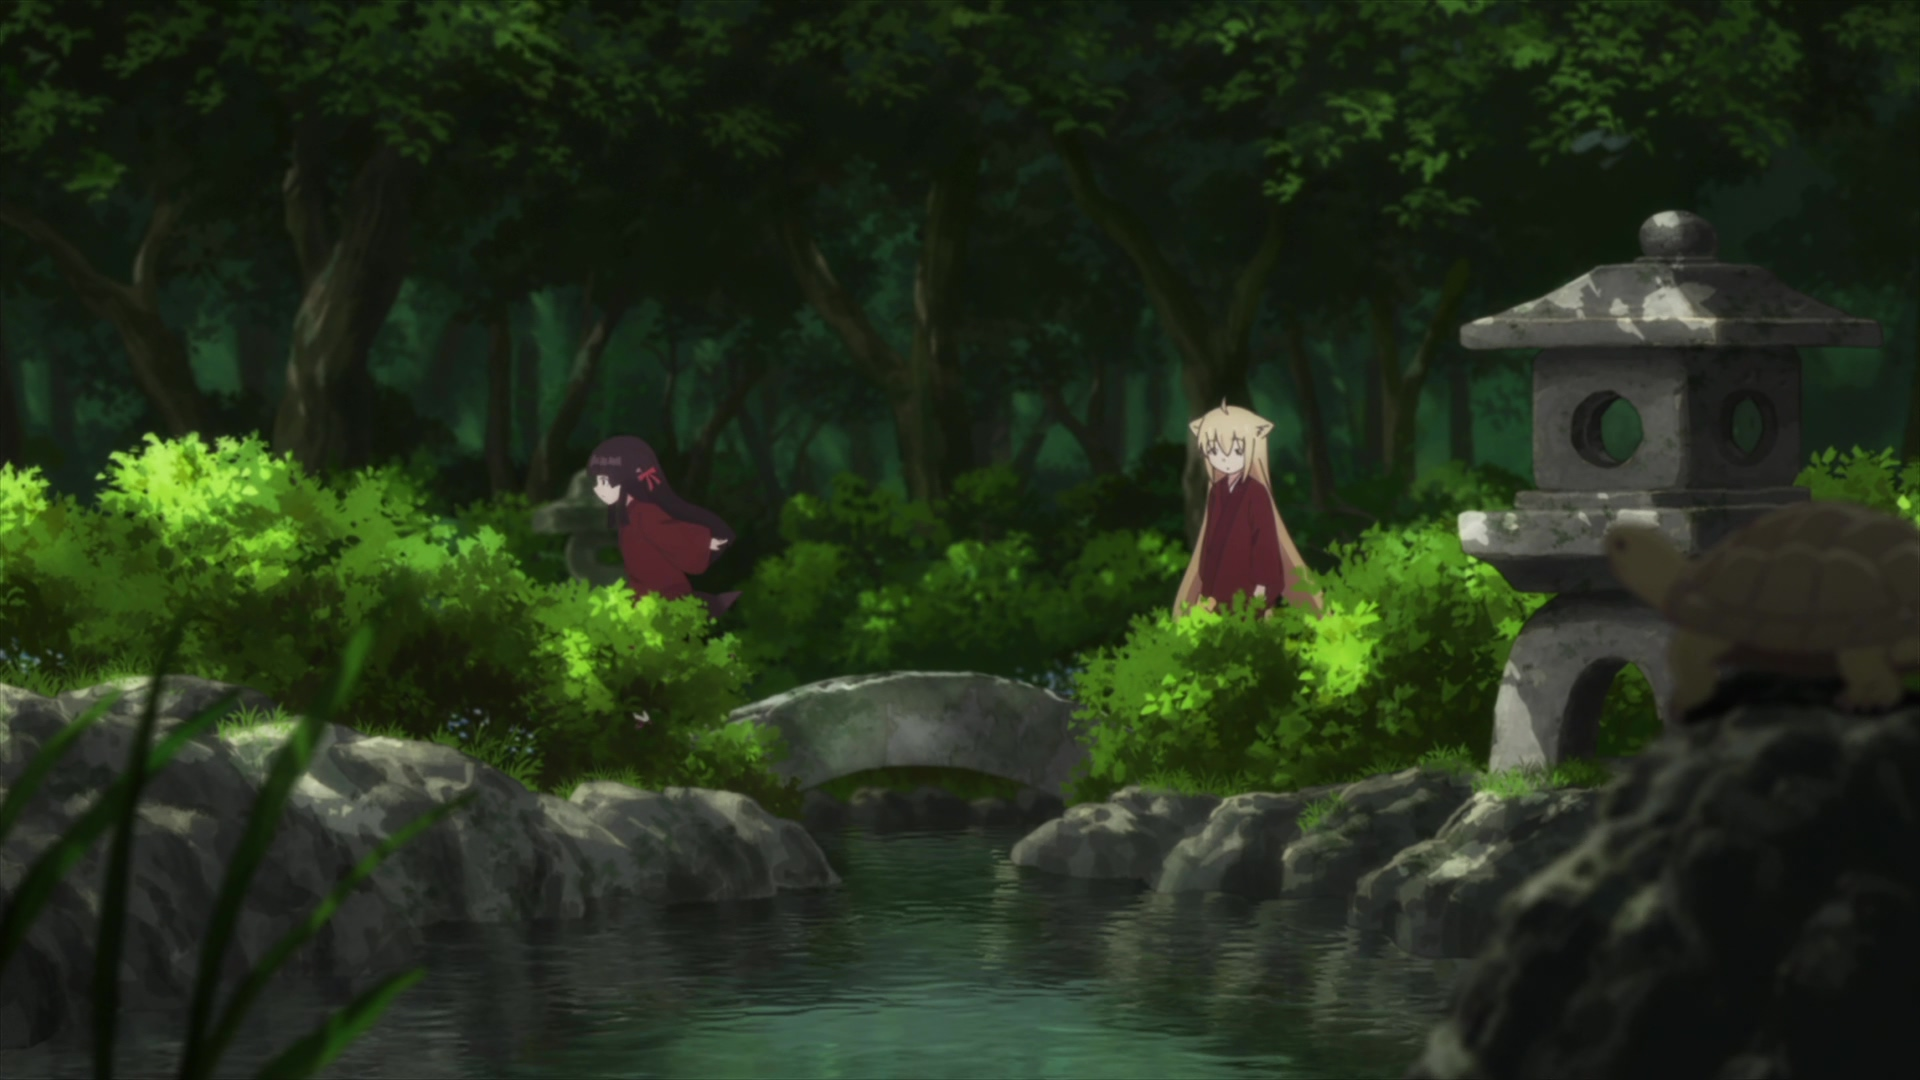柚: (1170, 396, 1325, 622)
樱: (585, 434, 732, 597)
